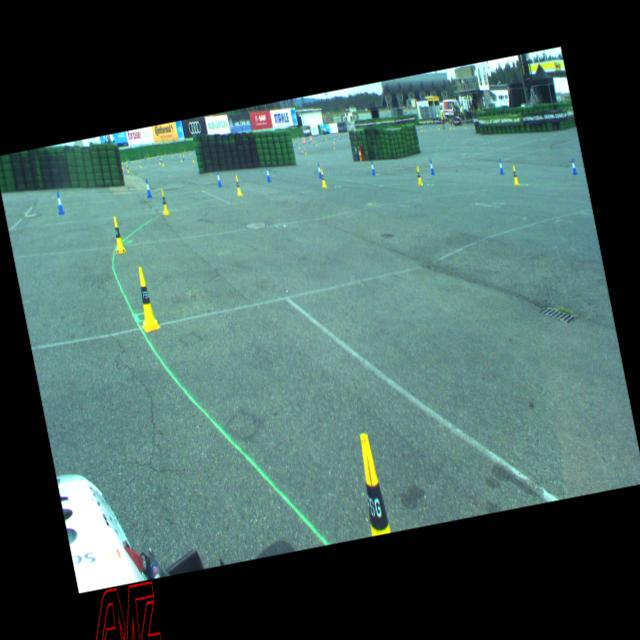blue_cone: (55, 190, 65, 214), (144, 178, 152, 198), (570, 157, 578, 175), (215, 169, 222, 187), (264, 168, 272, 182), (498, 158, 504, 175), (429, 159, 435, 175), (370, 159, 375, 175), (317, 163, 322, 177), (354, 146, 358, 155), (182, 154, 185, 160), (293, 144, 295, 149)
large_orange_cone: (302, 137, 304, 145), (304, 136, 306, 144), (309, 134, 311, 142), (310, 134, 312, 142)
orange_cone: (302, 148, 304, 156)
yellow_cone: (352, 432, 392, 536), (131, 266, 160, 331), (110, 216, 126, 255), (158, 189, 170, 215), (414, 165, 424, 186), (511, 166, 520, 186), (234, 176, 242, 197), (319, 168, 327, 188), (358, 145, 362, 155), (158, 158, 162, 165), (139, 160, 142, 168), (192, 156, 195, 163), (126, 166, 129, 173), (304, 148, 306, 156), (162, 159, 164, 166), (180, 156, 182, 162), (298, 144, 300, 148)
